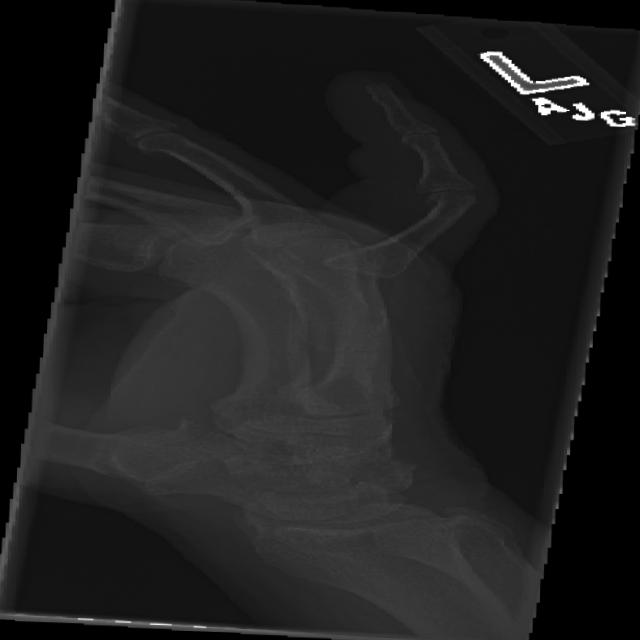fingers positive: (313, 324, 394, 375)
